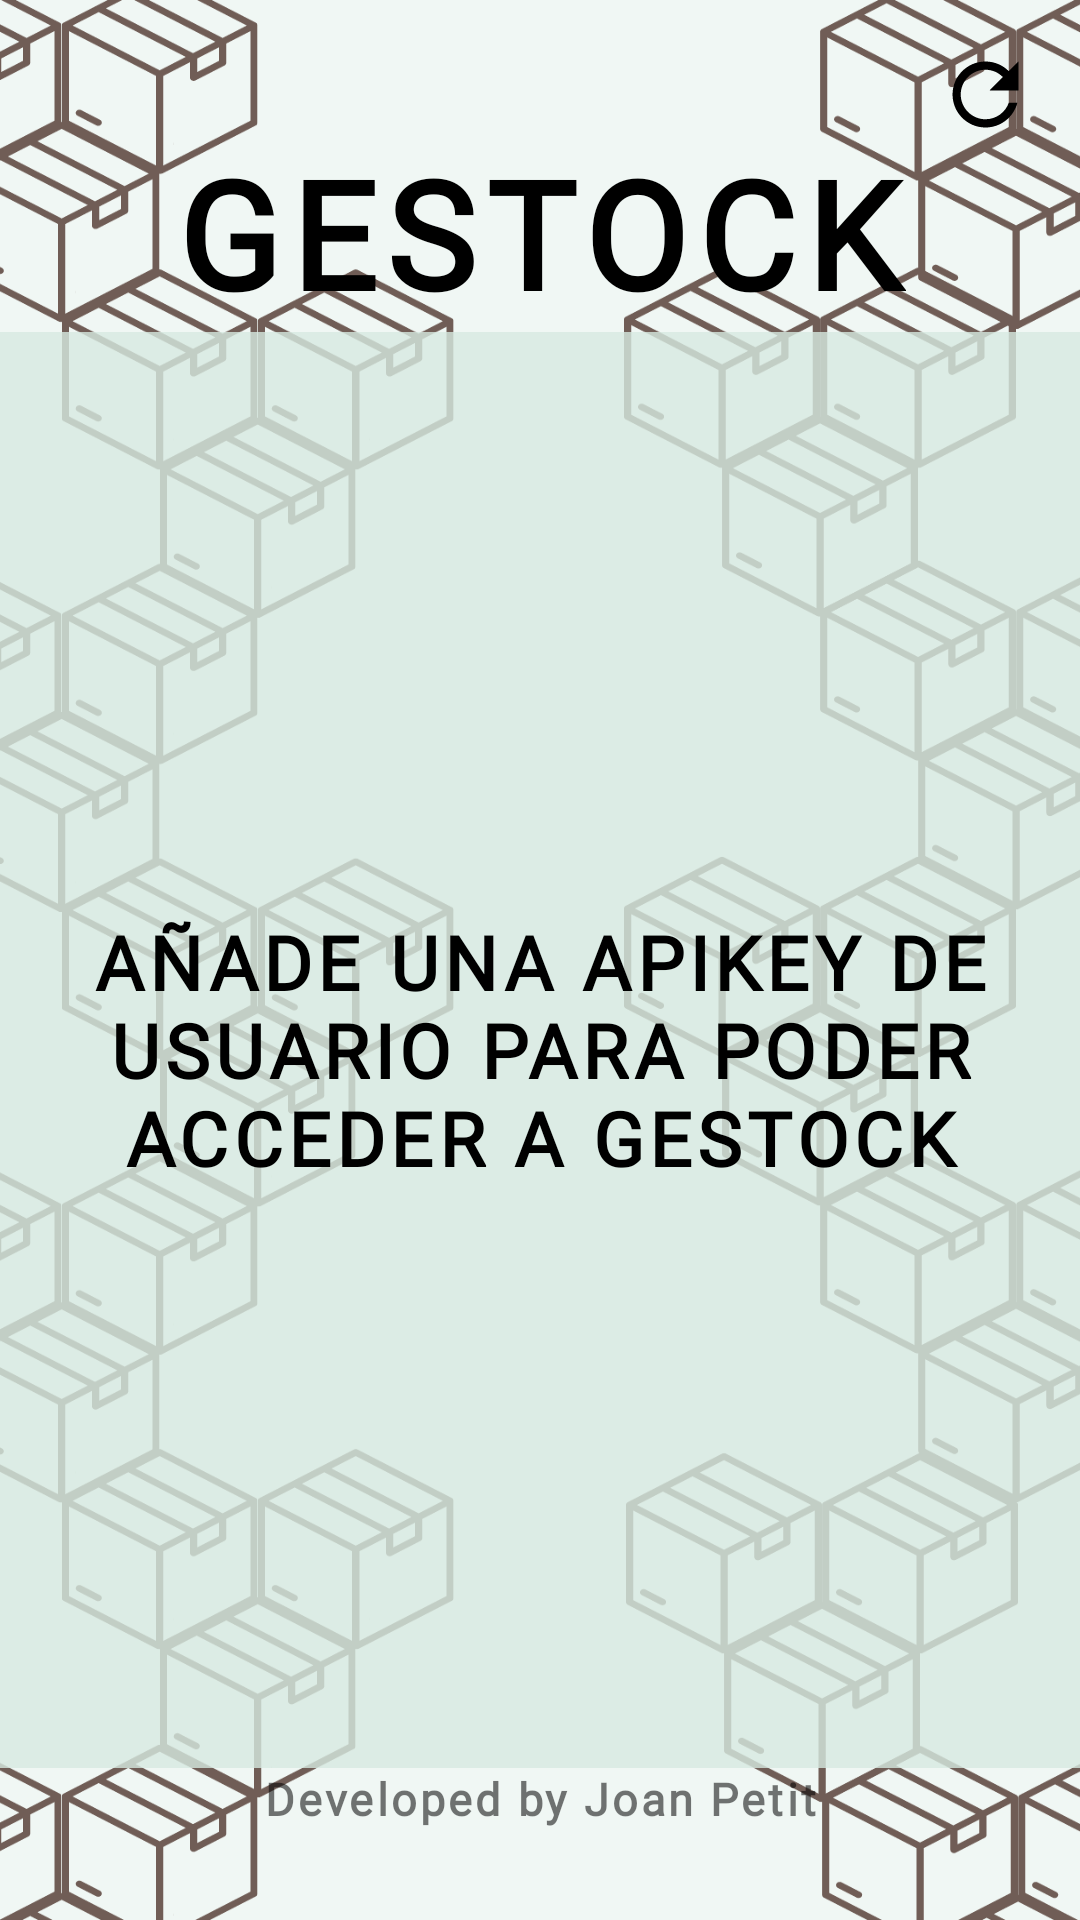

Screen size 1080x1920. Icon name, then its box in pixels as (x1, y1, x2, y2):
refresh: (936, 45, 1035, 144)
